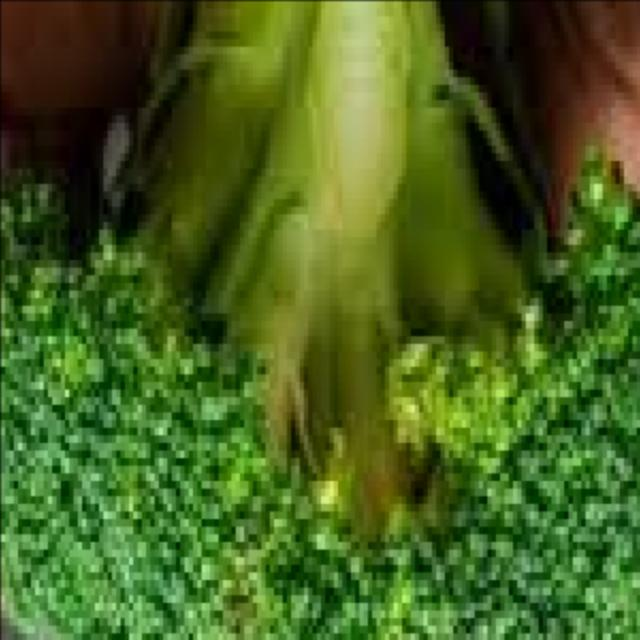broccoli: (0, 0, 640, 640)
